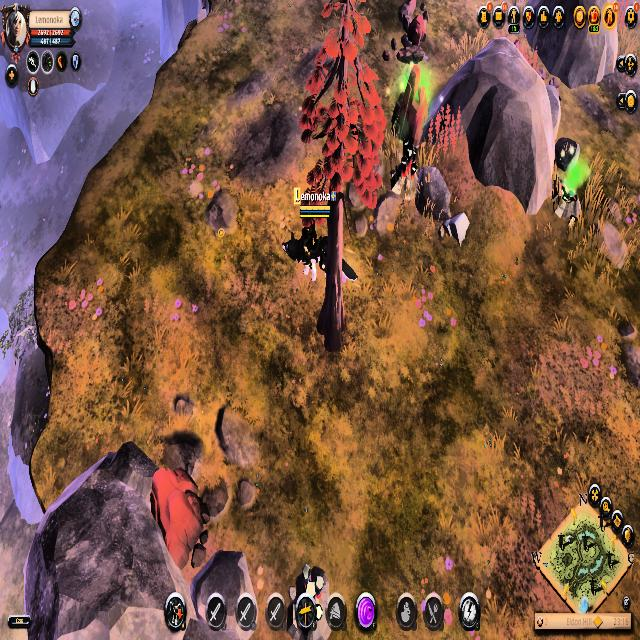ore tier 5: (390, 138, 420, 202)
rock tier 5: (148, 462, 210, 574), (392, 62, 432, 154)
wood tier 5: (300, 0, 384, 211)
